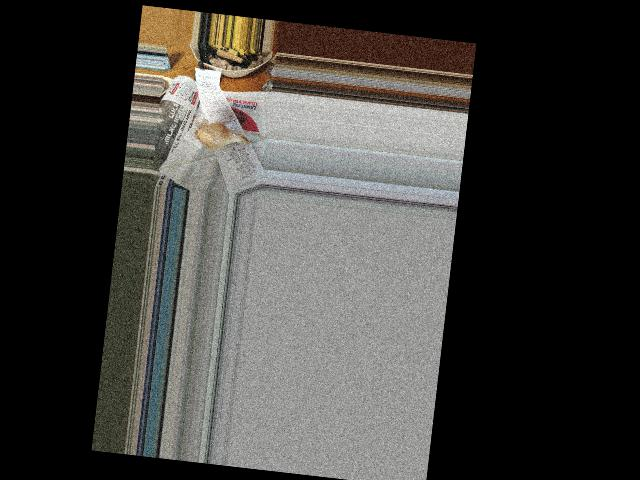onion: (197, 119, 235, 149)
